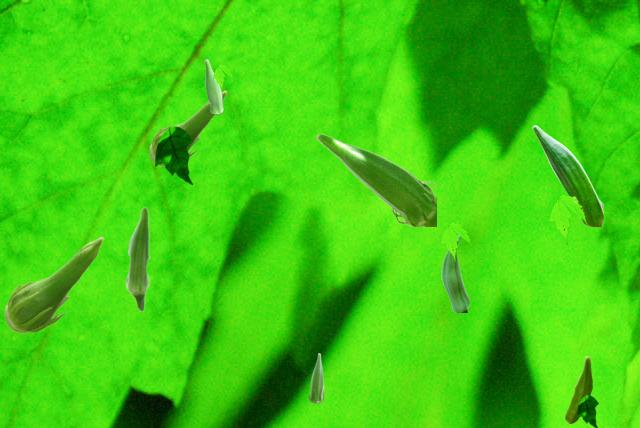okra: (316, 133, 435, 225), (4, 236, 103, 332), (532, 125, 602, 225), (149, 90, 226, 165), (125, 206, 149, 311), (441, 236, 468, 311), (565, 356, 591, 422), (204, 59, 222, 112), (308, 353, 323, 402)
